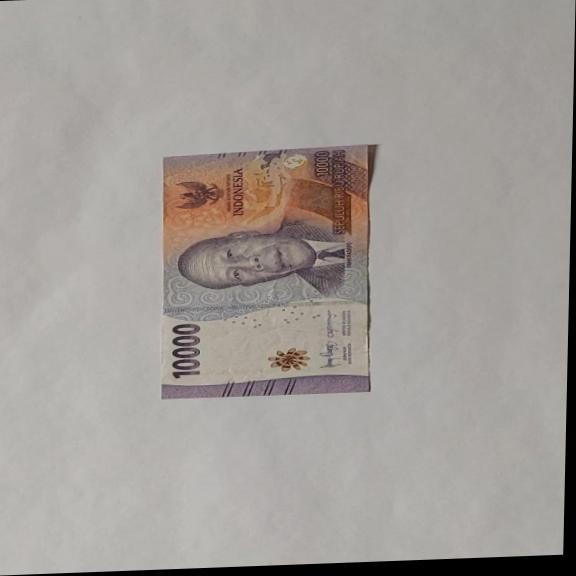Kertas: (156, 143, 376, 399), (167, 322, 203, 379)
